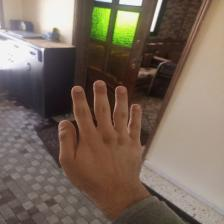five: (56, 76, 153, 192)
